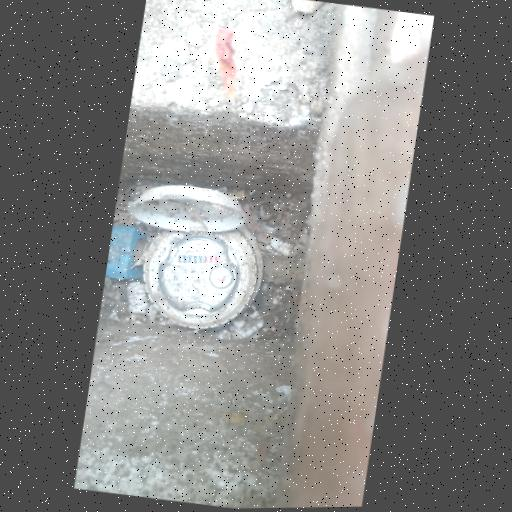0: (178, 254, 186, 264), (195, 254, 202, 265), (184, 254, 191, 264), (200, 255, 207, 265)
5: (189, 255, 196, 265), (211, 255, 218, 265)
6: (216, 255, 222, 263)
9: (205, 254, 212, 264)
border_water_meter_number: (174, 247, 225, 272)
